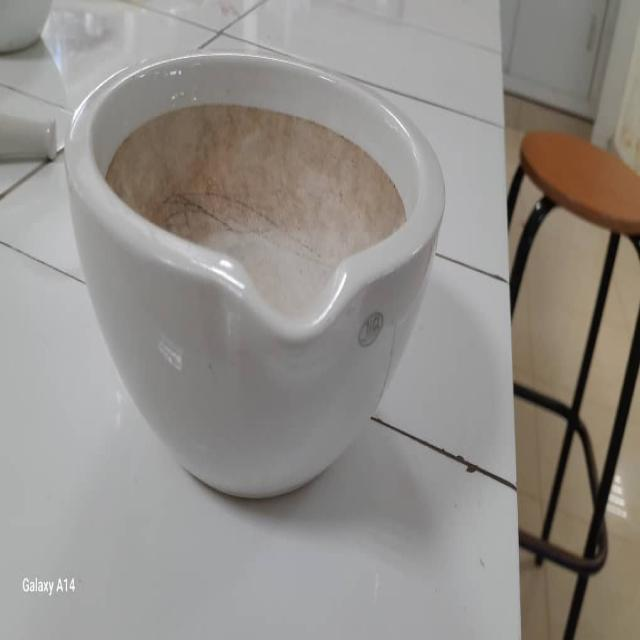Mortar and Pestle: (61, 55, 448, 508)
